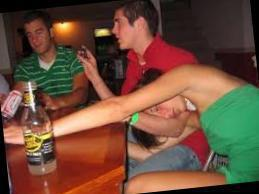Drunk: (143, 96, 190, 120), (21, 20, 50, 54), (112, 10, 134, 54)
